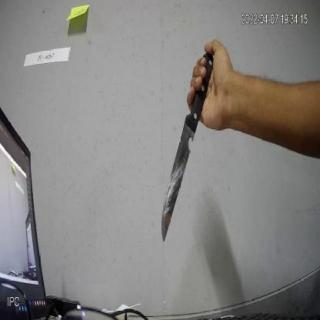knife: (162, 50, 214, 242)
